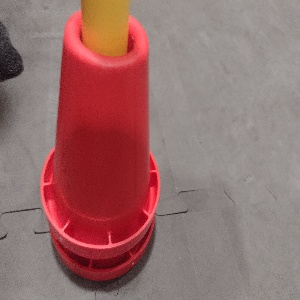Red_2: (39, 7, 160, 283)
